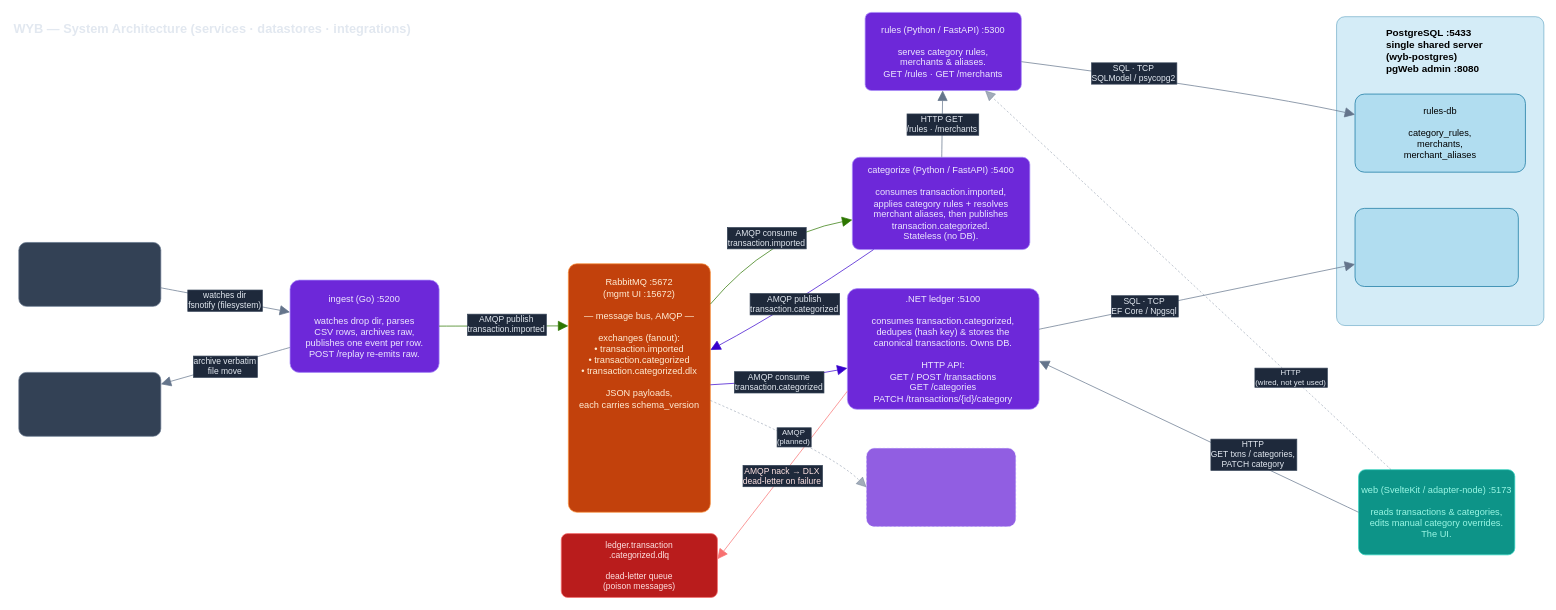
The diagram is 1556 pixels wide and 610 high, and some of its shapes have lost their labels. Here are the shapes that lost their labels. From the top down, the centre of each, then its label:
pixel 1436 247: ledger-db transactions (canonical store)
pixel 89 274: Drop folder (data/drop) user drops bank CSV / XLSX here
pixel 89 404: Raw archive (data/raw) verbatim copy, never modified / deleted
pixel 941 487: detect (Python / FastAPI) anomaly / subscription detection (placeholder — M3+)
